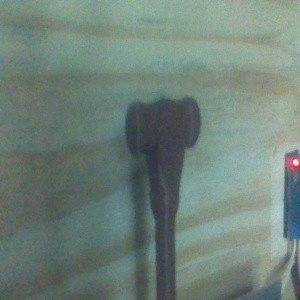palu: (124, 95, 202, 300)
